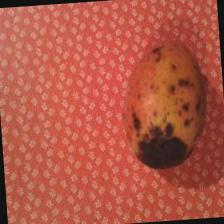Mango Overripe: (119, 37, 212, 168)
